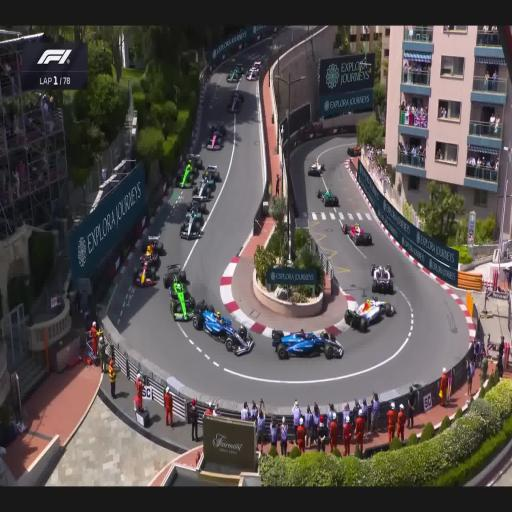f1_car: (192, 306, 253, 355), (272, 330, 343, 359), (345, 297, 396, 331), (170, 277, 205, 321), (192, 165, 221, 201), (180, 202, 205, 239), (177, 155, 204, 187), (140, 236, 163, 266), (371, 263, 394, 292), (342, 223, 372, 244), (163, 263, 186, 288), (133, 262, 156, 286), (192, 176, 214, 201), (177, 163, 198, 188), (206, 124, 226, 149), (186, 154, 204, 175), (317, 189, 339, 206), (227, 91, 243, 113), (246, 61, 260, 80), (226, 67, 242, 82), (308, 162, 324, 175), (347, 145, 361, 156), (202, 167, 204, 168)
